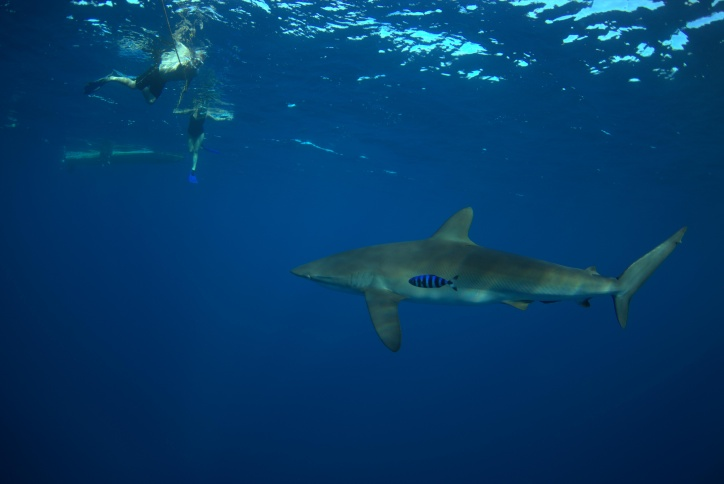Sedoso: (265, 200, 692, 357)
